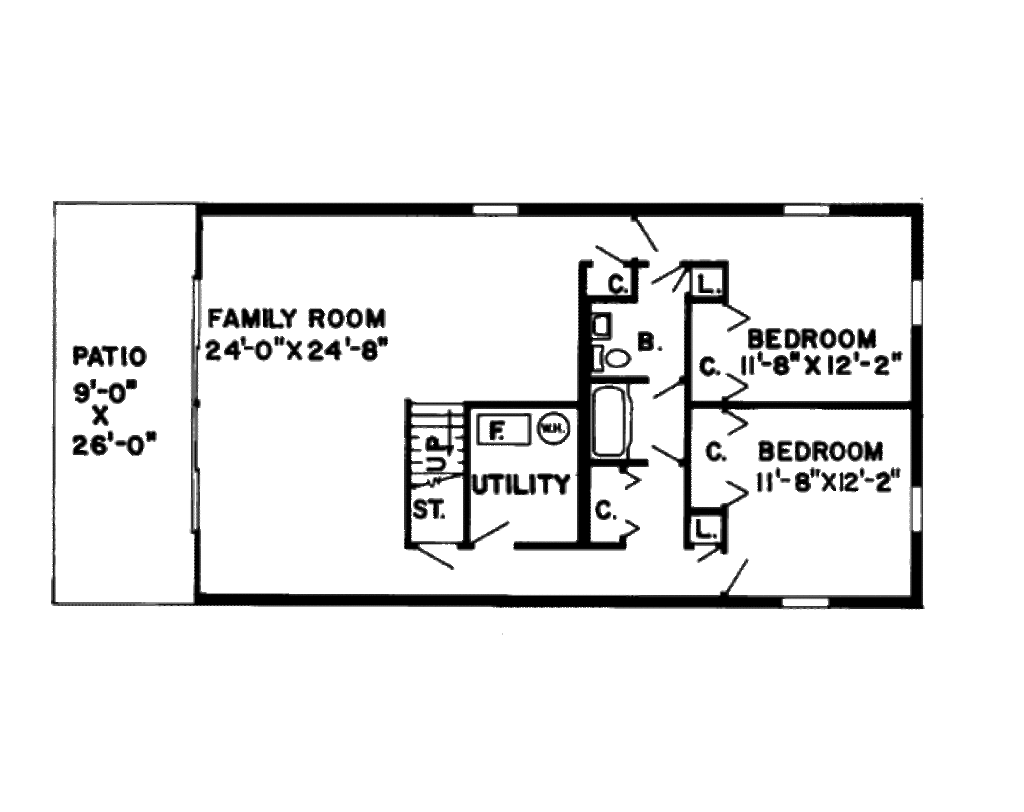large_sink: (585, 335, 643, 378)
stairs: (405, 393, 470, 539)
tub: (594, 381, 639, 457)
window: (778, 195, 843, 222), (899, 486, 933, 534), (776, 587, 833, 613), (910, 272, 925, 332), (467, 202, 517, 220)
